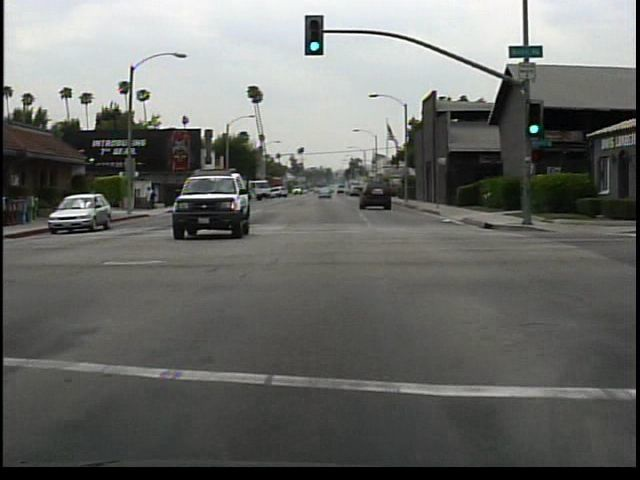person: (147, 182, 162, 213)
